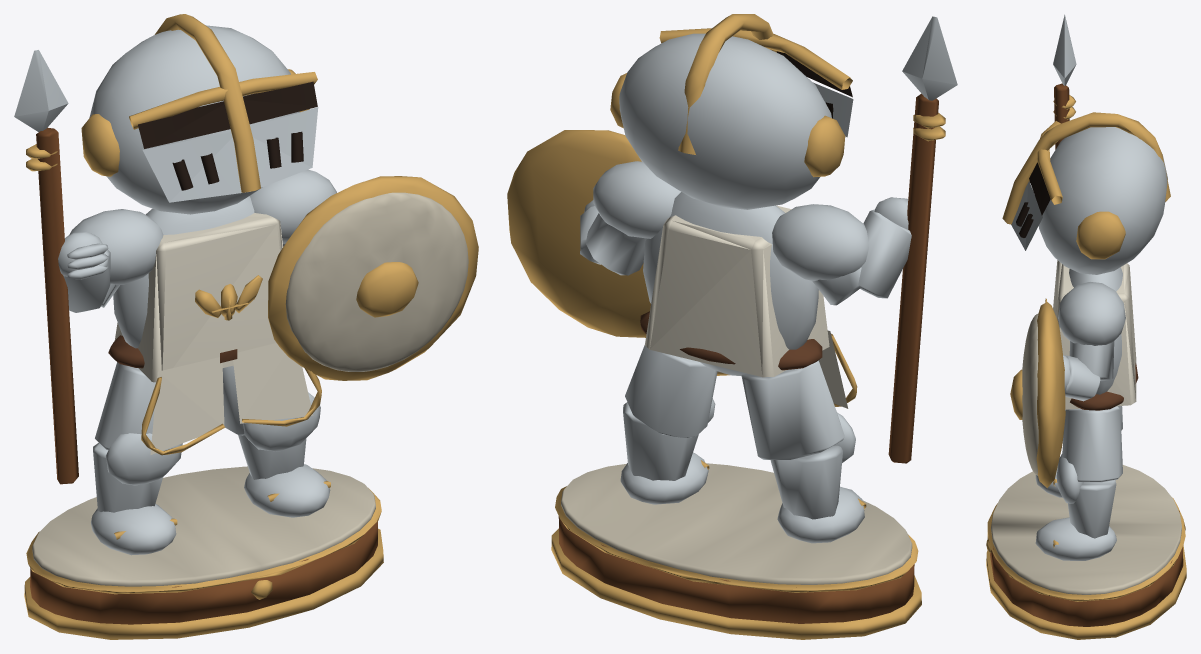
Rendered from default_knight_l1.glb.
3 renders of one model, left to right at view 1: azimuth 30°, elevation 25°; view 2: azimuth 150°, elevation 25°; view 3: azimuth 270°, elevation 25°, orthographic. The views are drawn at different scales.
Parts seen in each view (by area): view 1: FixedDetails, WoodBody, BrassTrim; view 2: FixedDetails, WoodBody, BrassTrim; view 3: FixedDetails, WoodBody, BrassTrim.
Boxes of the visible parts, x1,y1,x2,y2 form: FixedDetails: (14, 25, 377, 624); WoodBody: (32, 192, 468, 586); BrassTrim: (24, 14, 478, 639); FixedDetails: (558, 16, 957, 623); WoodBody: (561, 205, 912, 584); BrassTrim: (507, 14, 945, 639); FixedDetails: (990, 14, 1183, 626); WoodBody: (991, 260, 1181, 594); BrassTrim: (986, 95, 1186, 639).
Bounding box in the file's own units: 0.4316 × 0.5317 × 0.1998.
